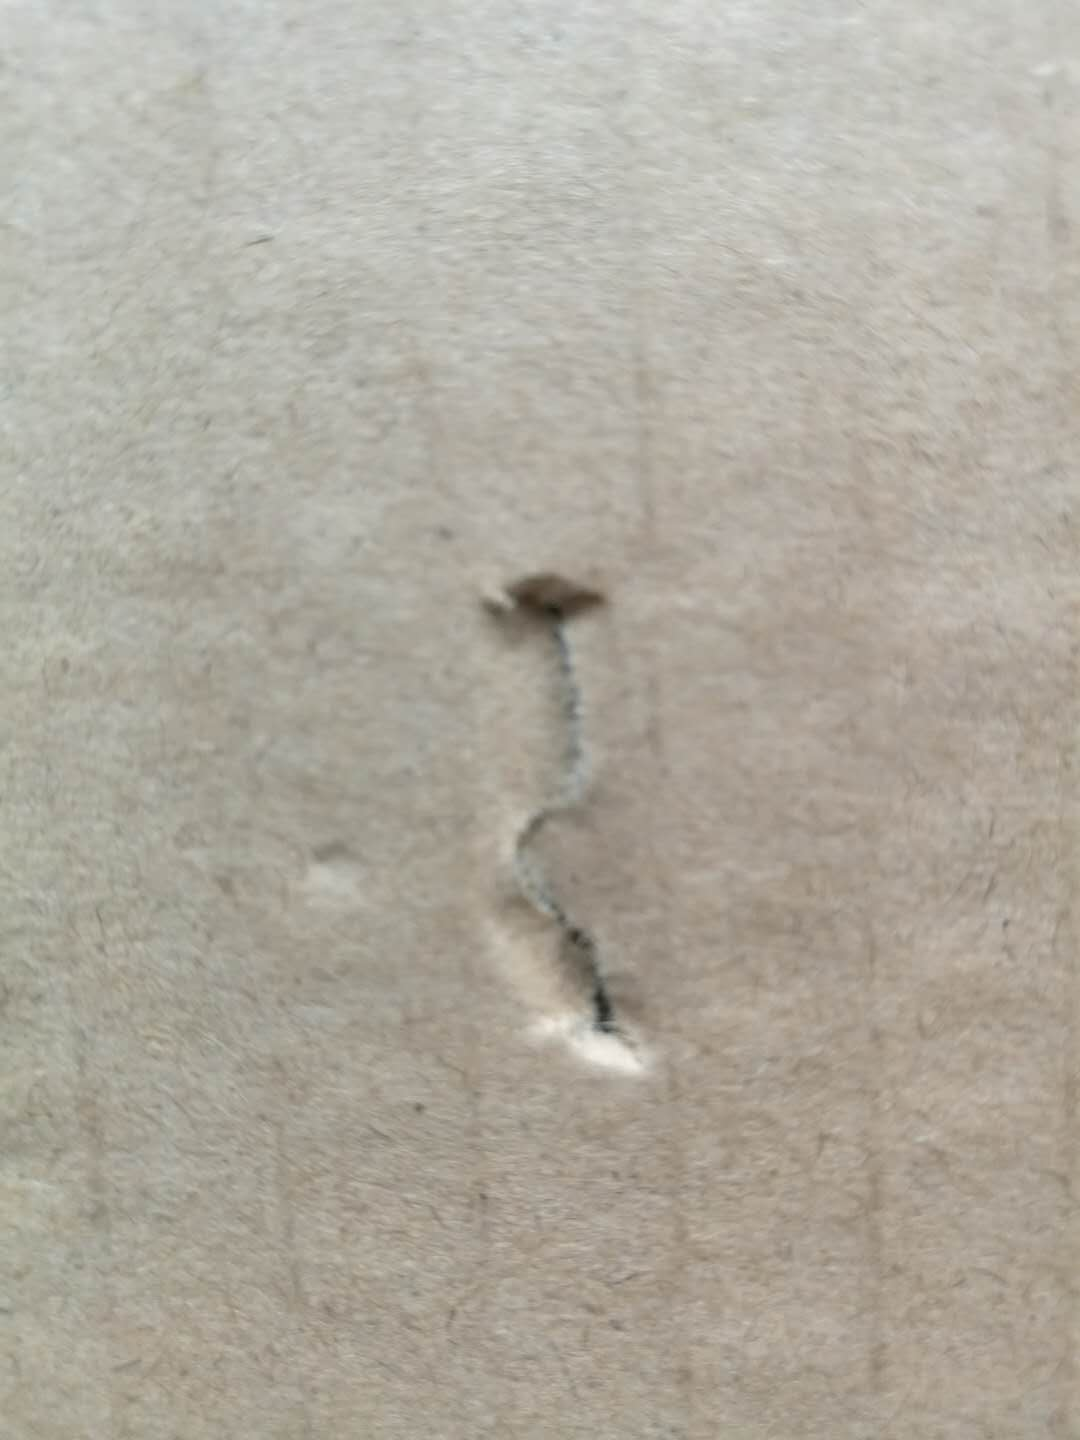defect: (411, 522, 742, 1121), (275, 818, 388, 925)
